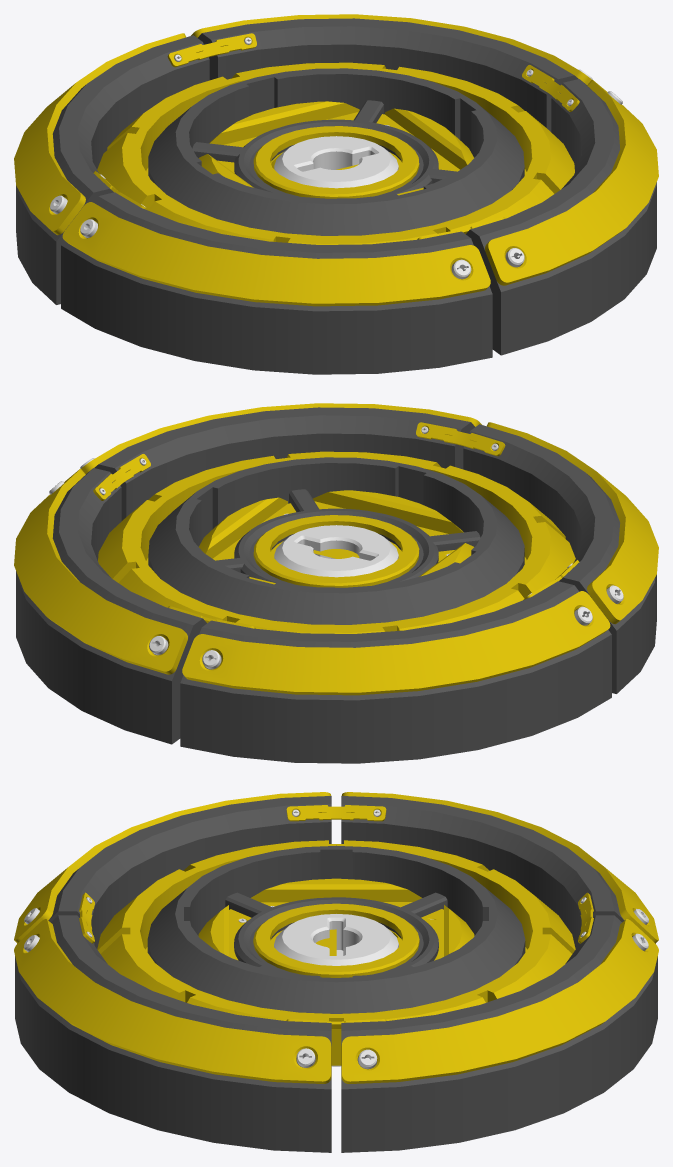
File: Ceiling2x_Prop_A.fbx
3 renders of one model, top to bottom at view 1: azimuth 30°, elevation 25°; view 2: azimuth 150°, elevation 25°; view 3: azimuth 270°, elevation 25°, orthographic.
Visible parts, largest first — view 1: Ceiling2x_Prop_A; view 2: Ceiling2x_Prop_A; view 3: Ceiling2x_Prop_A.
Boxes of the visible parts, <box> form: Ceiling2x_Prop_A: <box>14,14,658,374</box>; Ceiling2x_Prop_A: <box>14,403,658,763</box>; Ceiling2x_Prop_A: <box>14,792,658,1152</box>.
Size of the model in its own units: 1494 by 343 by 1494.
